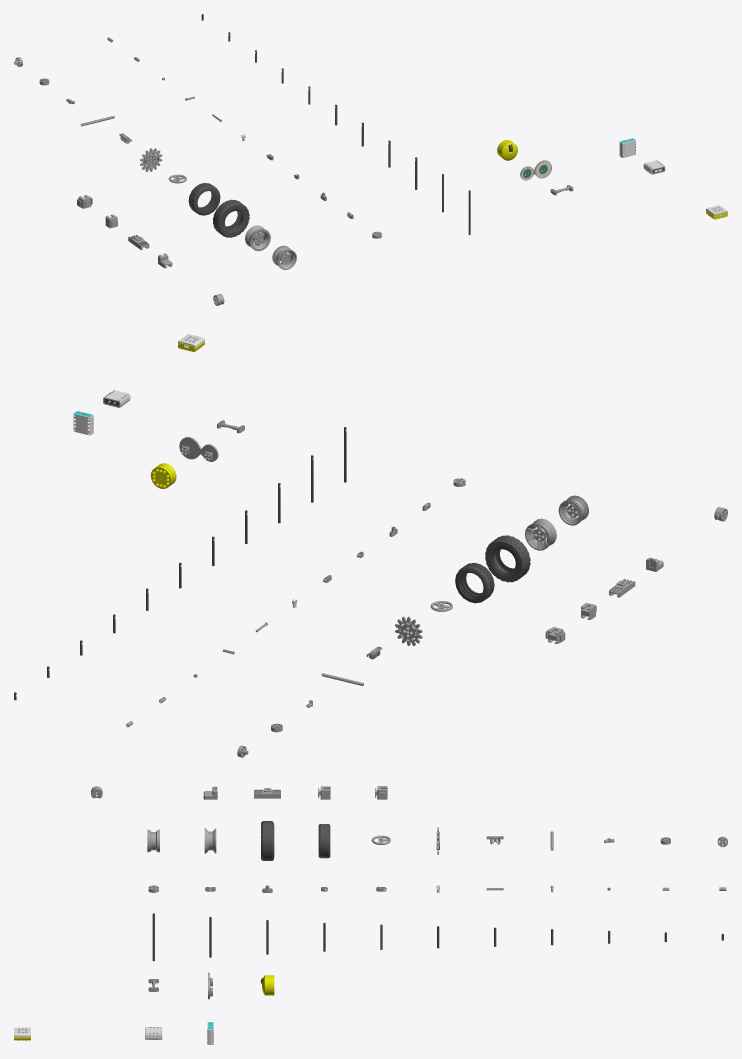
The model's file is lingjian_2.fbx.
3 views of the same model, one above another, from view 1: azimuth 30°, elevation 25°; view 2: azimuth 150°, elevation 25°; view 3: azimuth 270°, elevation 25° (orthographic). The views are drawn at different scales.
Parts seen in each view (by area): view 1: m83, m84, m82; view 2: m83, m84, m82, m81; view 3: m83, m84.
Boxes of the visible parts, x1,y1,x2,y2 form: m83: (213,199,249,237); m84: (188,183,220,215); m82: (245,225,270,251); m83: (485,535,530,582); m84: (455,562,494,603); m82: (525,518,556,550); m81: (558,495,588,525); m83: (261,821,274,860); m84: (318,824,330,858).
Bounding box in the file's own units: 1031 × 91.44 × 1255.
